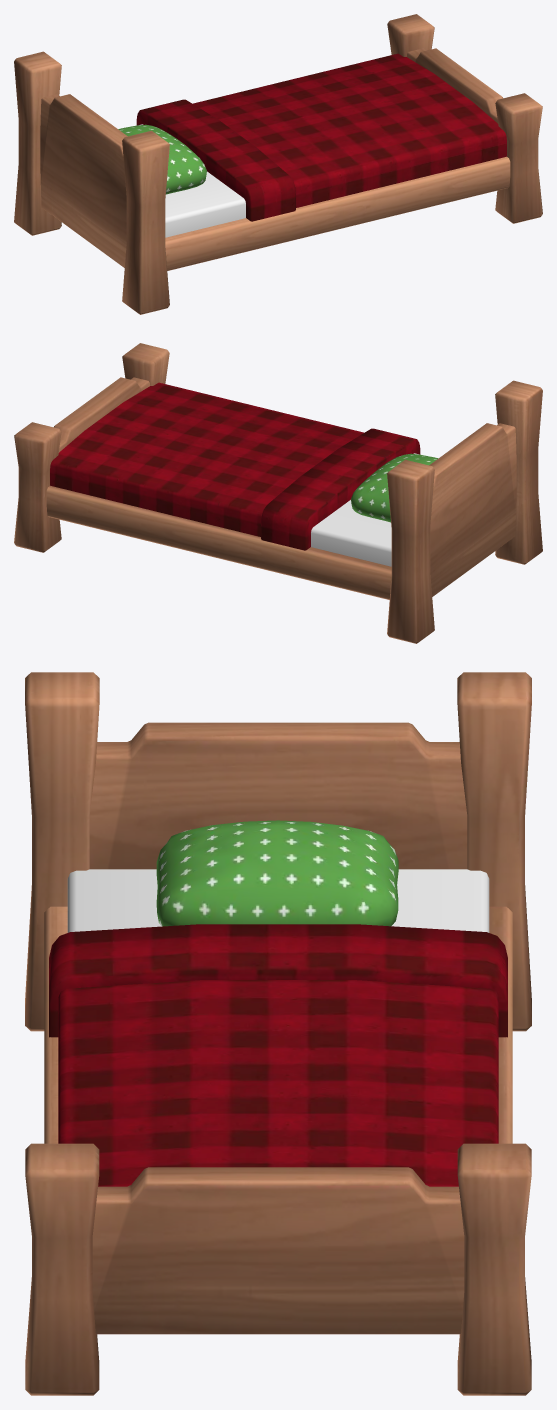
File: bed.glb
3 views of the same model, one above another, from view 1: azimuth 30°, elevation 25°; view 2: azimuth 150°, elevation 25°; view 3: azimuth 270°, elevation 25° (orthographic). The views are drawn at different scales.
Parts seen in each view (by area): view 1: Bed; view 2: Bed; view 3: Bed.
Part boxes in pixels (x1=…): Bed: x1=14, y1=14, x2=542, y2=314; Bed: x1=14, y1=343, x2=542, y2=643; Bed: x1=25, y1=672, x2=531, y2=1395.
Bounding box in the file's own units: 2 × 0.7836 × 1.08.
1 material, 1 textured.
